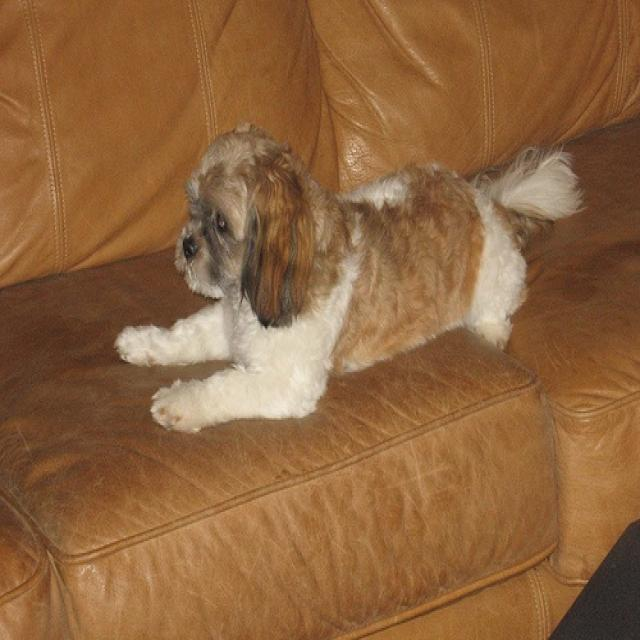dog: (120, 121, 585, 435)
sofa: (4, 3, 639, 638)
